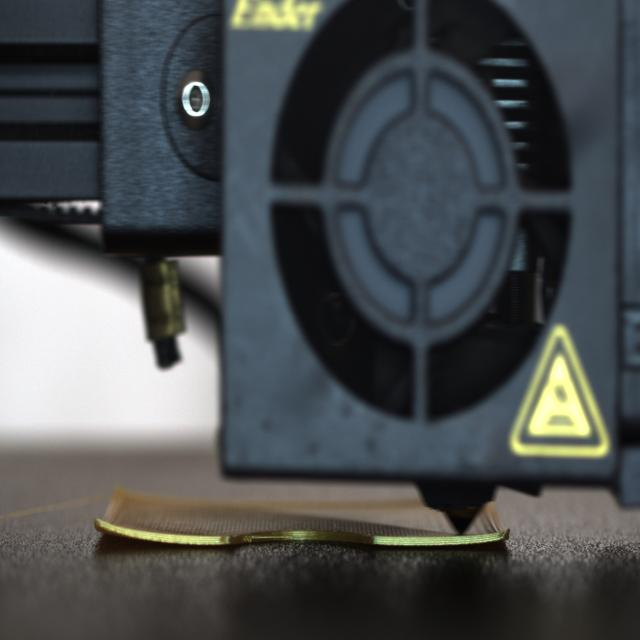Warping: (88, 516, 167, 550)
